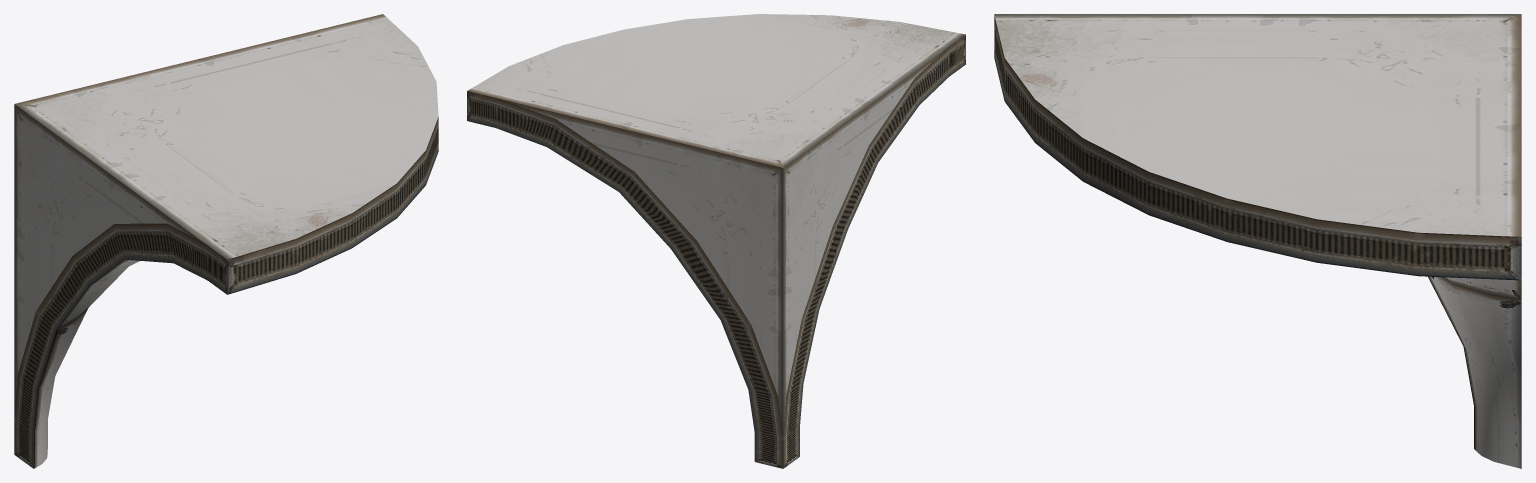
The model's file is scifi_wall_top2_curve4_1.FBX.
The picture shows the model from 3 angles, left to right: view 1: azimuth 30°, elevation 25°; view 2: azimuth 150°, elevation 25°; view 3: azimuth 270°, elevation 25°; orthographic projection. The views are drawn at different scales.
Visible parts, largest first — view 1: Plane348; view 2: Plane348; view 3: Plane348.
Boxes of the visible parts, box(x1,y1,x2,y2) form: Plane348: box(14, 14, 438, 468); Plane348: box(467, 14, 965, 468); Plane348: box(994, 14, 1521, 468).
Size of the model in its own units: 279 by 254 by 279.
